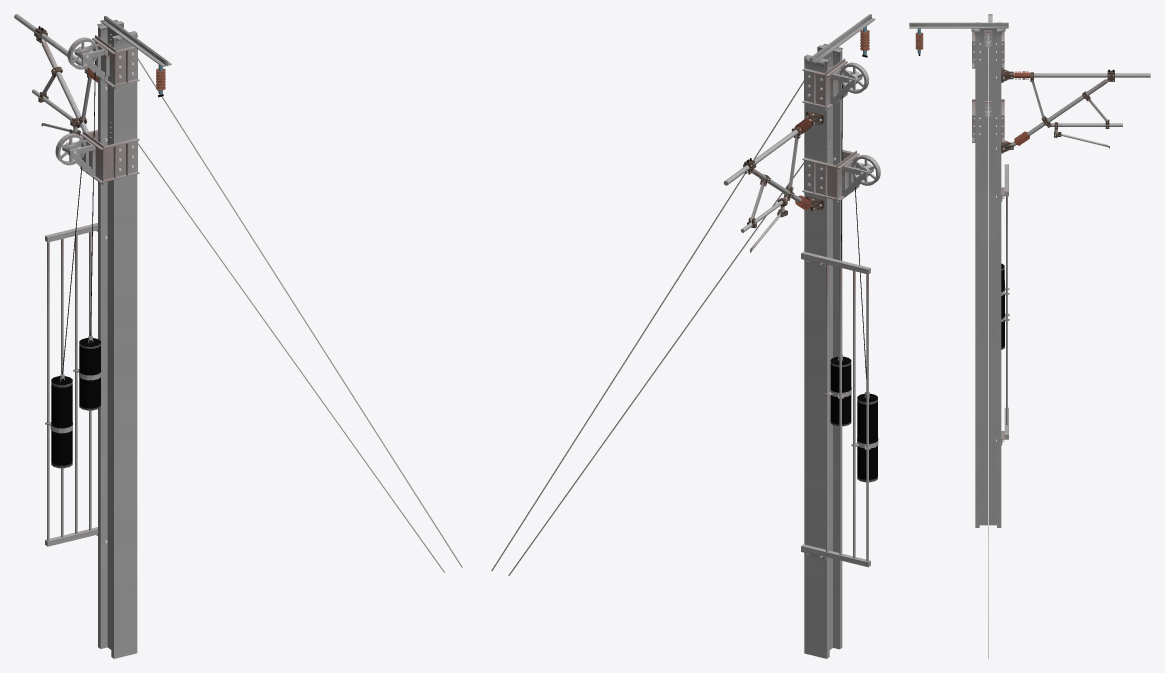
File: catenary_short_counterweight.obj
The picture shows the model from 3 angles, left to right: view 1: azimuth 30°, elevation 25°; view 2: azimuth 150°, elevation 25°; view 3: azimuth 270°, elevation 25°; orthographic projection. The views are drawn at different scales.
Parts seen in each view (by area): view 1: cuboid, cylinder, tube; view 2: cuboid, cylinder, tube; view 3: cuboid, cylinder.
Part boxes in pixels (left/top/right/bottom): cuboid: left=34, top=16, right=462, bottom=658; cylinder: left=14, top=14, right=165, bottom=543; tube: left=50, top=37, right=101, bottom=433; cuboid: left=491, top=14, right=875, bottom=658; cylinder: left=723, top=16, right=877, bottom=561; tube: left=830, top=62, right=880, bottom=448; cuboid: left=909, top=22, right=1114, bottom=658; cylinder: left=910, top=24, right=1150, bottom=441.
Bounding box in the file's own units: 5.43 × 8.02 × 3.5.
1 material, 1 textured.
